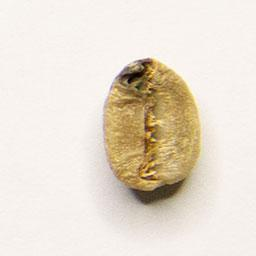defect: (95, 49, 207, 199)
